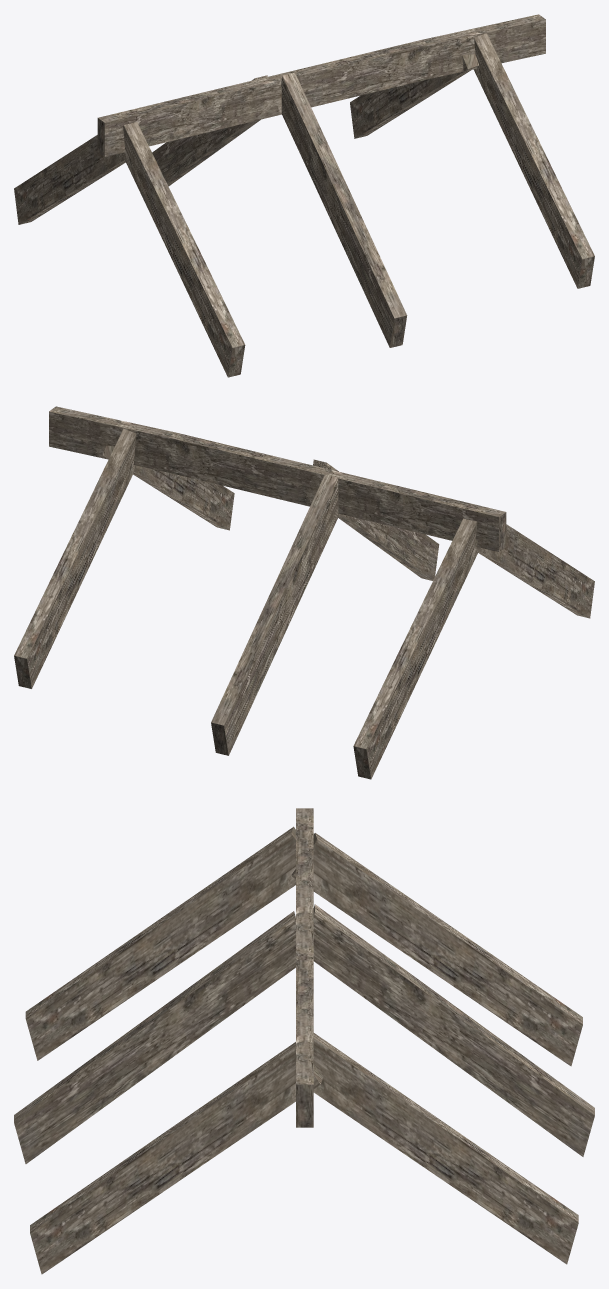
Rendered from WoodFenceBroken.fbx.
3 renders of one model, top to bottom at view 1: azimuth 30°, elevation 25°; view 2: azimuth 150°, elevation 25°; view 3: azimuth 270°, elevation 25°, orthographic. The views are drawn at different scales.
Parts seen in each view (by area): view 1: WoodFenceBroken; view 2: WoodFenceBroken; view 3: WoodFenceBroken.
Boxes of the visible parts, box(x1,y1,x2,y2) form: WoodFenceBroken: box(14, 14, 594, 377); WoodFenceBroken: box(14, 406, 594, 779); WoodFenceBroken: box(14, 808, 594, 1274).
Size of the model in its own units: 271 by 117 by 245.
